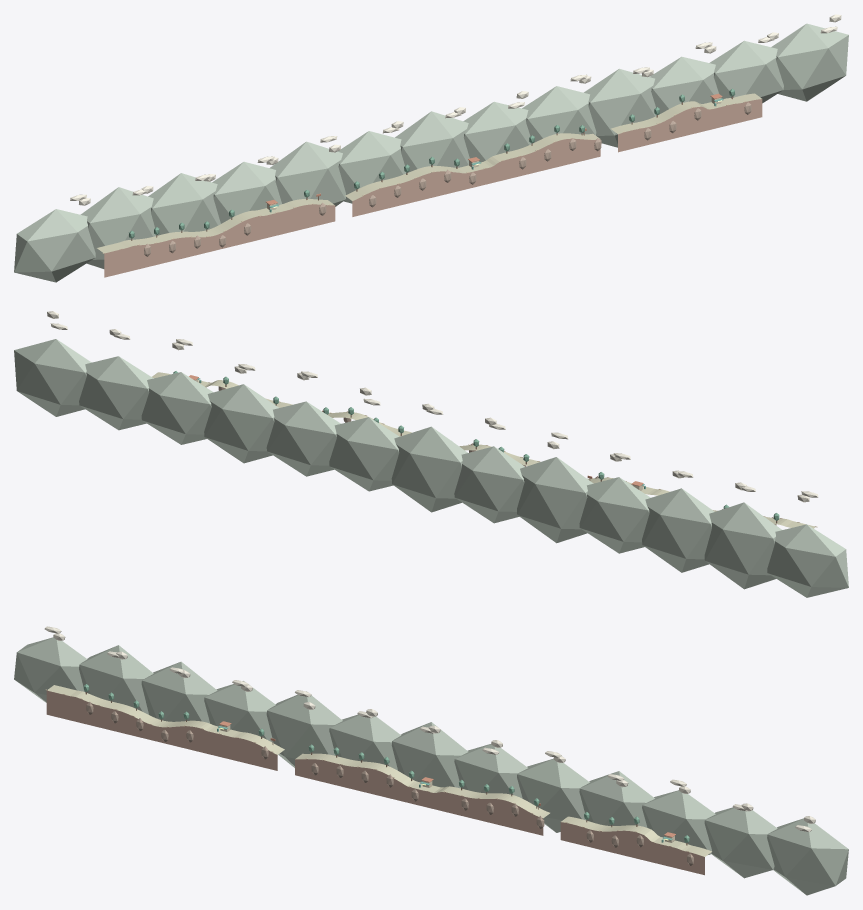
The model's file is route-sky.glb.
The picture shows the model from 3 angles, top to bottom: view 1: azimuth 30°, elevation 25°; view 2: azimuth 150°, elevation 25°; view 3: azimuth 330°, elevation 25°; orthographic projection.
Visible parts, largest first — view 1: Static_Distant hills.002, Static_Terracotta cliffs.002, Static_Sage road.002, Static_Cream clouds.002, Static_Warm rocks.002, Static_Seafoam trees.002; view 2: Static_Distant hills.002, Static_Cream clouds.002, Static_Sage road.002; view 3: Static_Distant hills.002, Static_Terracotta cliffs.002, Static_Sage road.002, Static_Cream clouds.002, Static_Warm rocks.002, Static_Seafoam trees.002.
Boxes of the visible parts, box(x1,y1,x2,y2) form: Static_Distant hills.002: box(14, 23, 848, 282); Static_Terracotta cliffs.002: box(104, 99, 762, 277); Static_Sage road.002: box(97, 93, 761, 253); Static_Cream clouds.002: box(70, 14, 841, 205); Static_Warm rocks.002: box(144, 102, 751, 256); Static_Seafoam trees.002: box(129, 88, 735, 238); Static_Distant hills.002: box(14, 339, 848, 597); Static_Cream clouds.002: box(47, 311, 818, 502); Static_Sage road.002: box(152, 372, 815, 528); Static_Distant hills.002: box(14, 637, 848, 895); Static_Terracotta cliffs.002: box(46, 690, 704, 875); Static_Sage road.002: box(48, 685, 711, 856); Static_Cream clouds.002: box(44, 626, 815, 832); Static_Warm rocks.002: box(86, 702, 693, 865); Static_Seafoam trees.002: box(83, 684, 689, 842).
Size of the model in its own units: 8677 by 1005 by 683.
